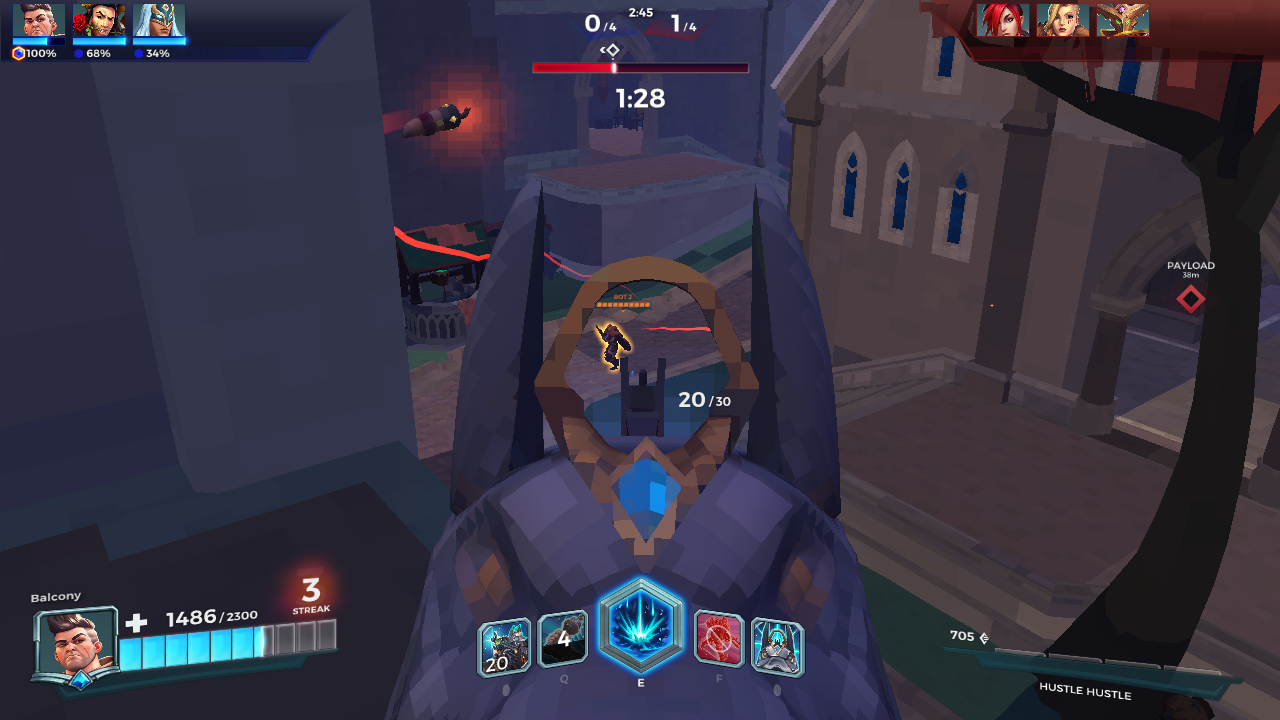model: (595, 316, 627, 377)
